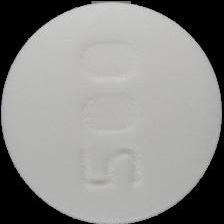68462-159: (0, 0, 224, 224)
